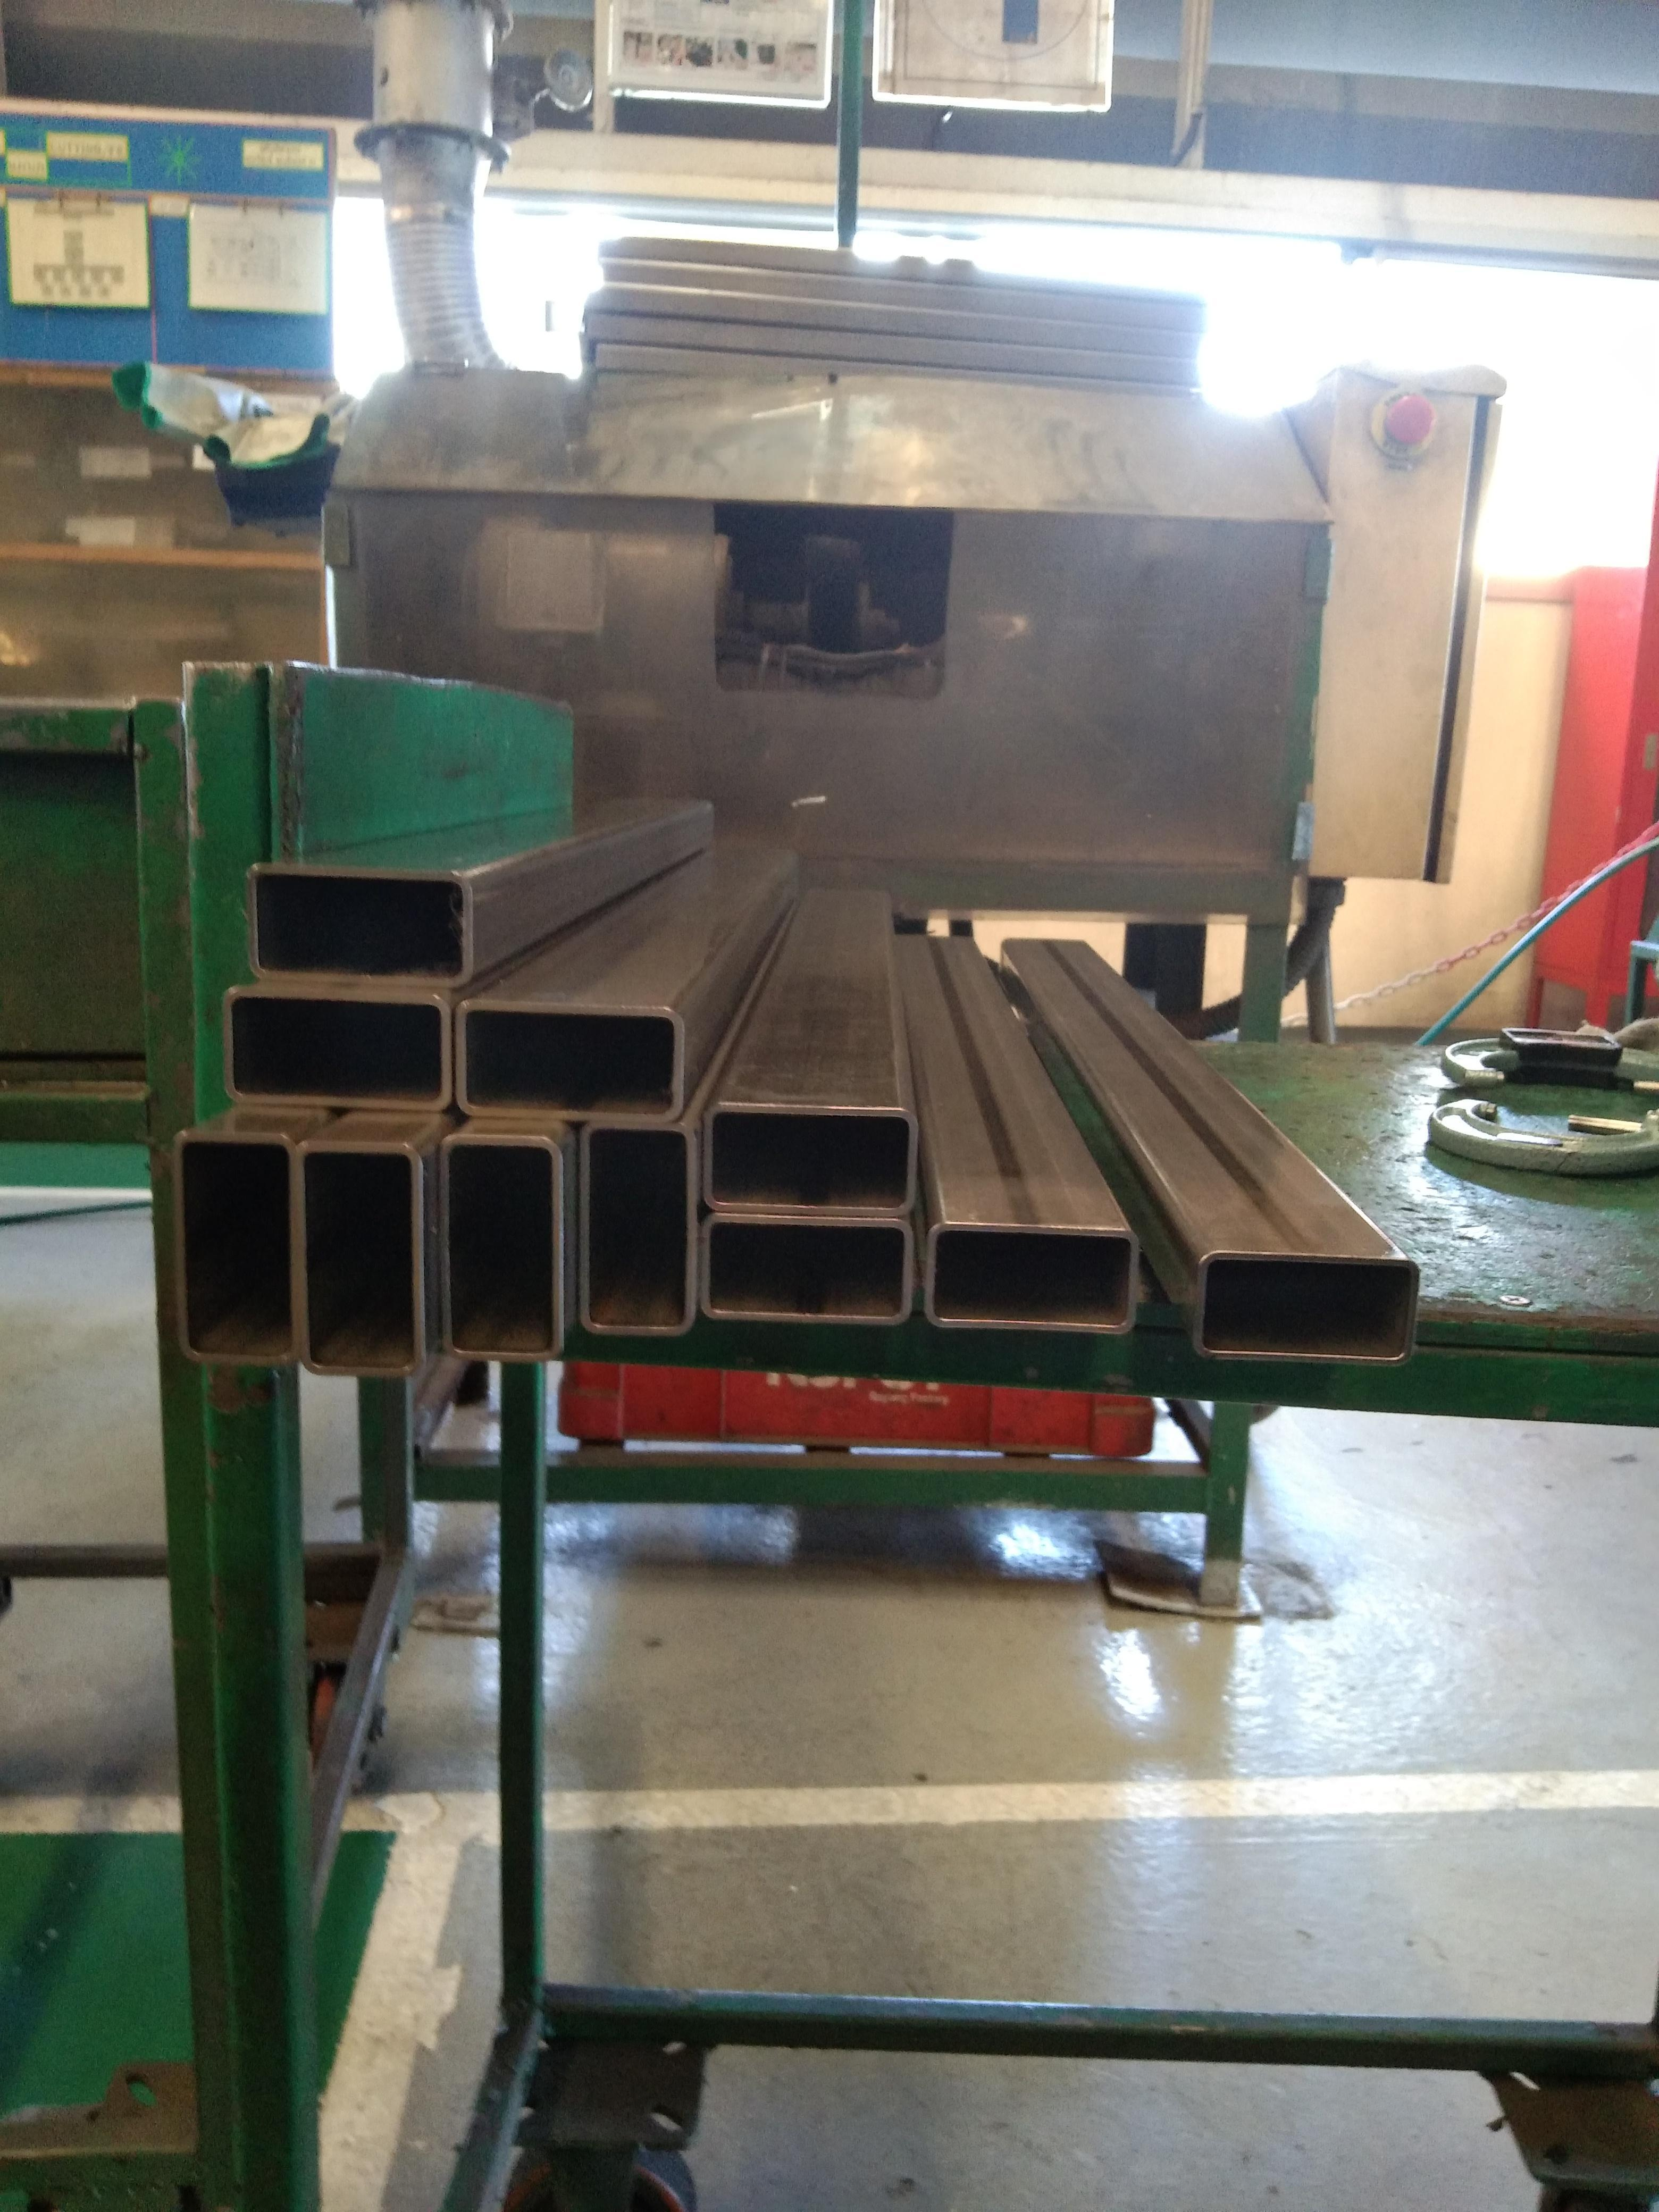pipe: (284, 1137, 432, 1378), (169, 1127, 305, 1371), (220, 981, 460, 1115), (436, 1125, 570, 1364), (448, 996, 687, 1127), (240, 862, 479, 988), (1188, 1247, 1425, 1372), (575, 1116, 702, 1341), (697, 1097, 925, 1219), (697, 1207, 917, 1331), (922, 1217, 1141, 1339)
